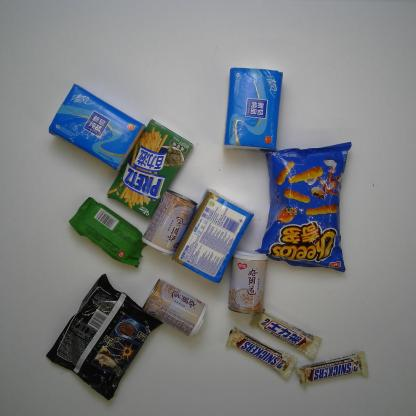Canned Food: (142, 278, 208, 339), (142, 189, 198, 257), (228, 248, 268, 314)
Chocolate: (225, 326, 298, 380), (248, 309, 323, 360), (296, 350, 370, 388)
Dessert: (106, 118, 194, 220), (68, 195, 148, 269)
Instant Noodles: (44, 273, 164, 401)
Puffed Food: (253, 140, 353, 274)
Tissue: (48, 83, 146, 172), (170, 188, 255, 286), (223, 67, 285, 152)
